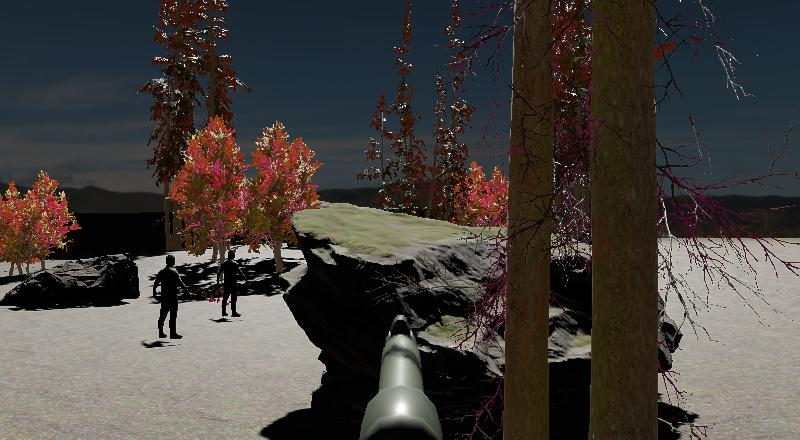Human: (151, 251, 190, 341), (215, 247, 249, 321)
